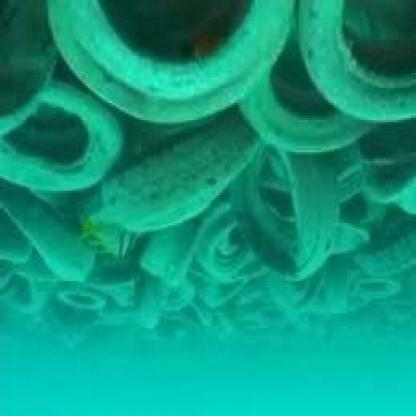tire: (63, 2, 289, 118), (90, 135, 246, 279), (202, 116, 328, 281), (254, 27, 380, 170), (1, 75, 127, 195), (289, 2, 415, 122)
